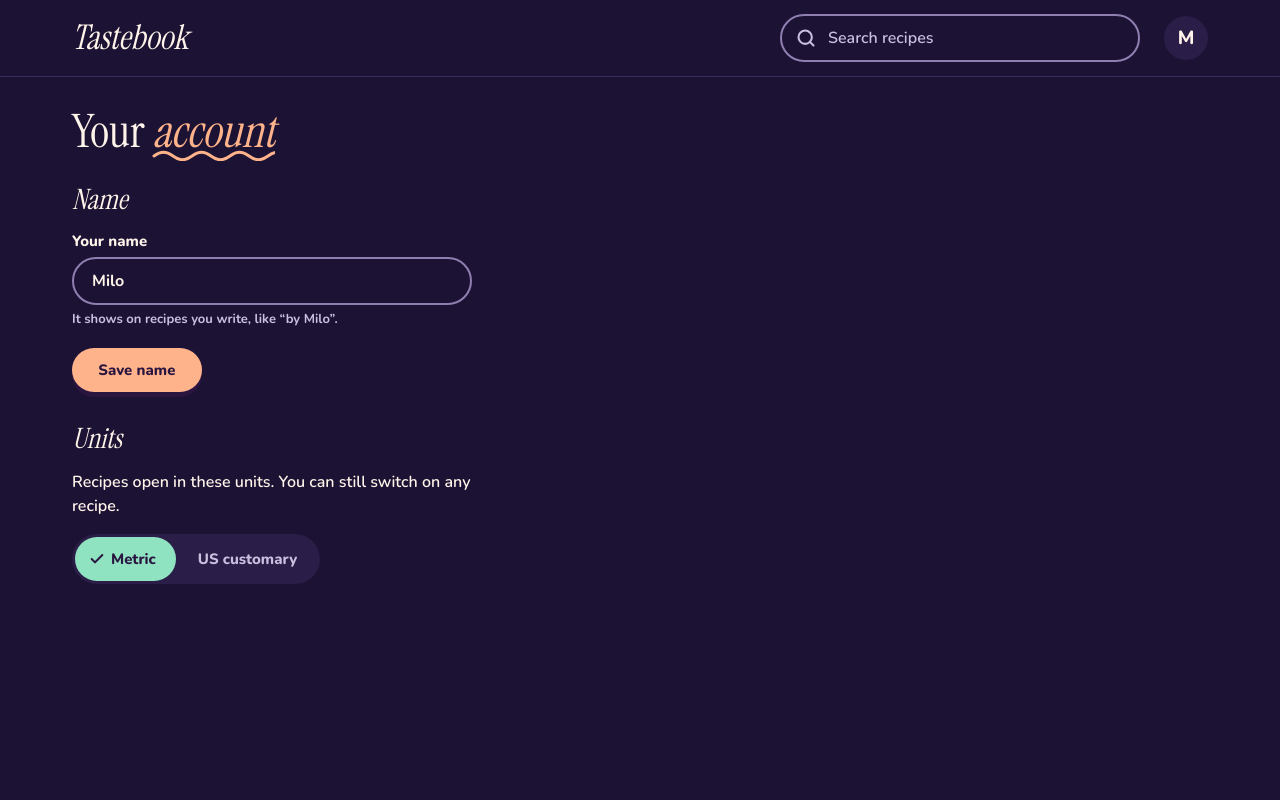
Test: AccountPage › saves a new name trimmed, says so, and renames the top bar
Replace the text in the field labelled "Your name" with "  Milo Bedini " at (272, 281), box top-left (72, 257), bottom-right (472, 305)
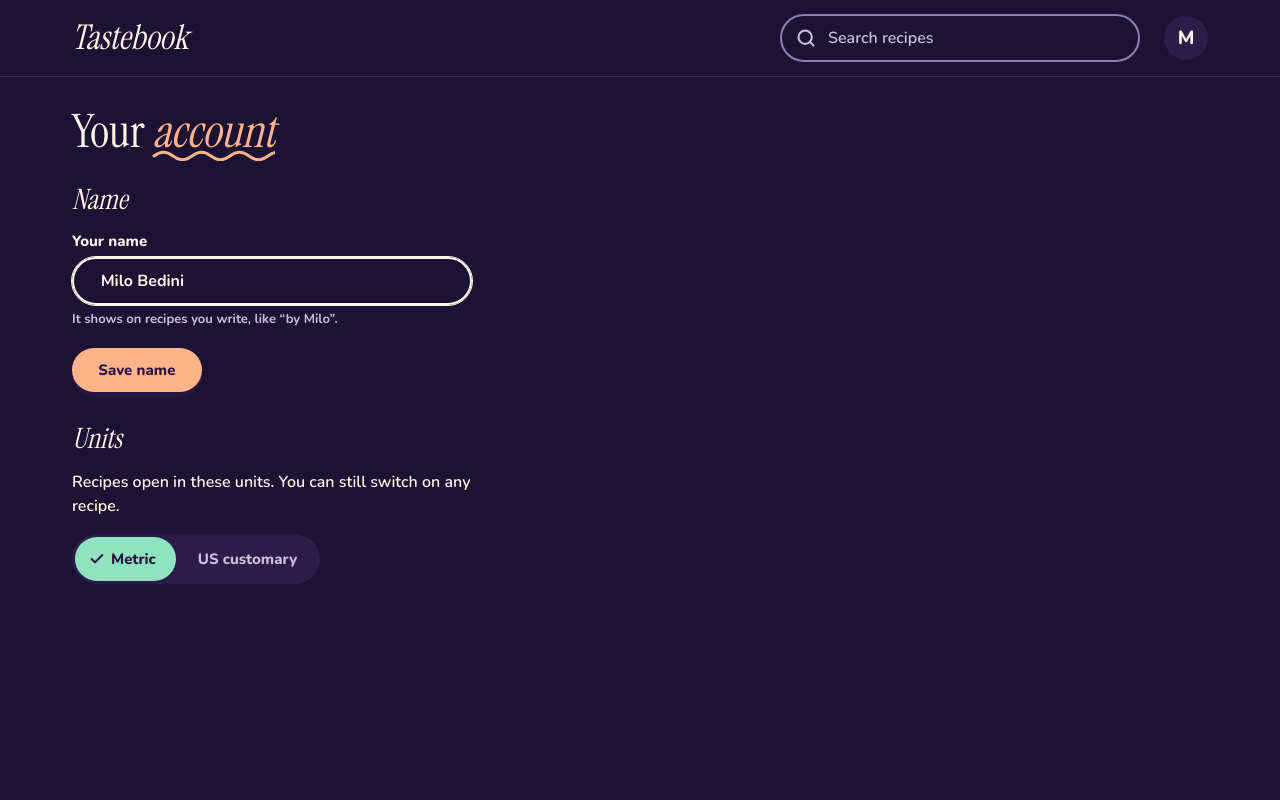
Click the button "Save name" at (137, 370), box top-left (72, 348), bottom-right (202, 392)
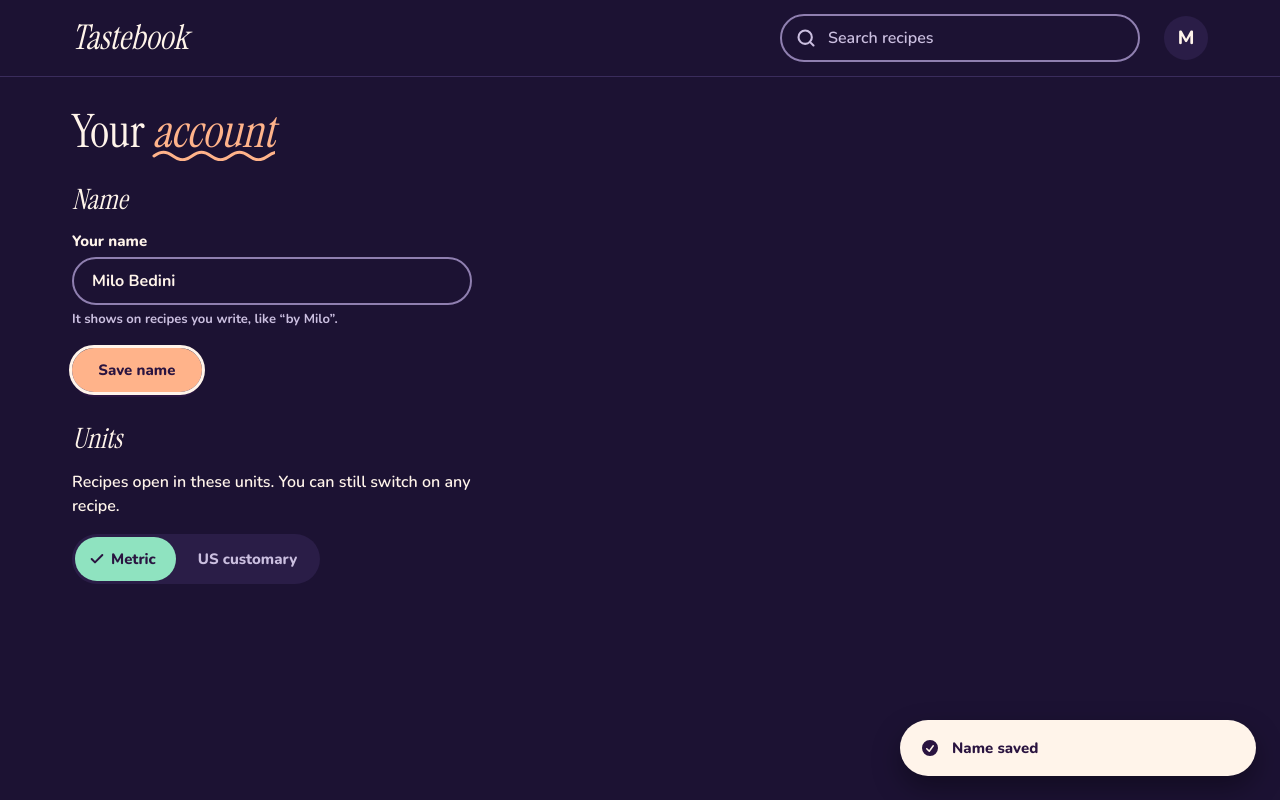
expect the button named "Account for Milo Bedini" is shown: met, box top-left (1164, 16), bottom-right (1208, 60)
expect the text "Name saved" is shown: met, box top-left (952, 738), bottom-right (1038, 758)
